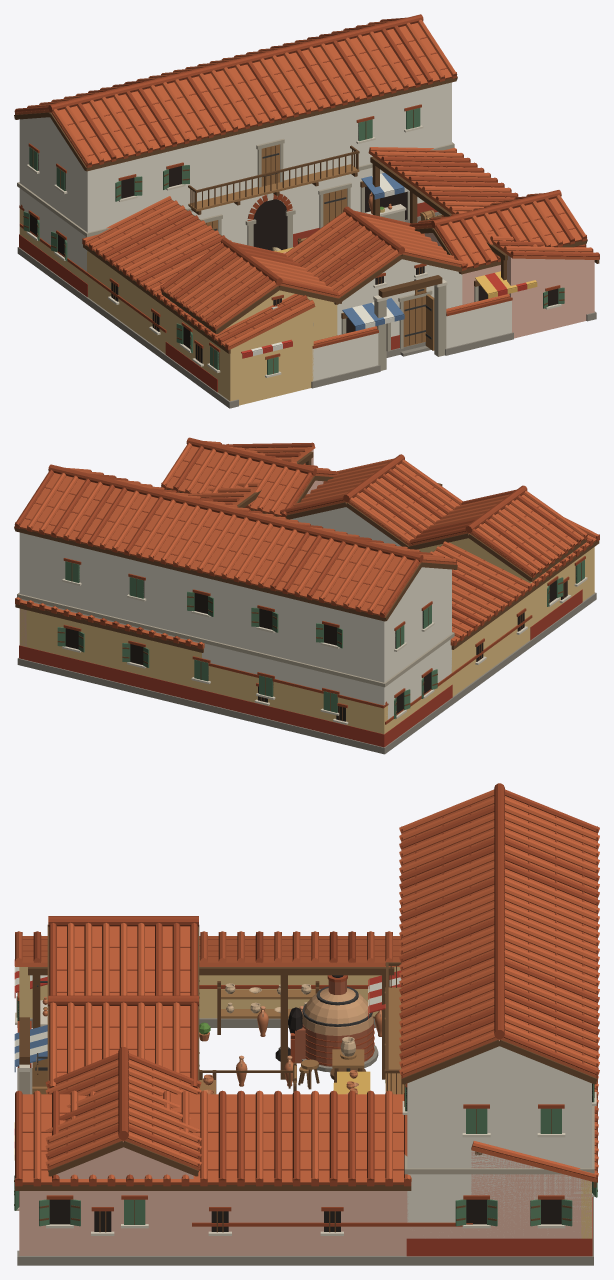
Rendered from Werkstatthof.fbx.
3 renders of one model, top to bottom at view 1: azimuth 30°, elevation 25°; view 2: azimuth 150°, elevation 25°; view 3: azimuth 270°, elevation 25°, orthographic. The views are drawn at different scales.
Parts seen in each view (by area): view 1: Werkstatthof_1, Werkstatthof_0; view 2: Werkstatthof_1, Werkstatthof_0; view 3: Werkstatthof_1, Werkstatthof_0.
Boxes of the visible parts, x1,y1,x2,y2 form: Werkstatthof_1: (14,14,599,408); Werkstatthof_0: (17,190,587,398); Werkstatthof_1: (14,442,599,753); Werkstatthof_0: (15,437,587,754); Werkstatthof_1: (14,783,599,1265); Werkstatthof_0: (14,916,598,1265).
Bounding box in the file's own units: 5.5 × 2.47 × 5.49.
